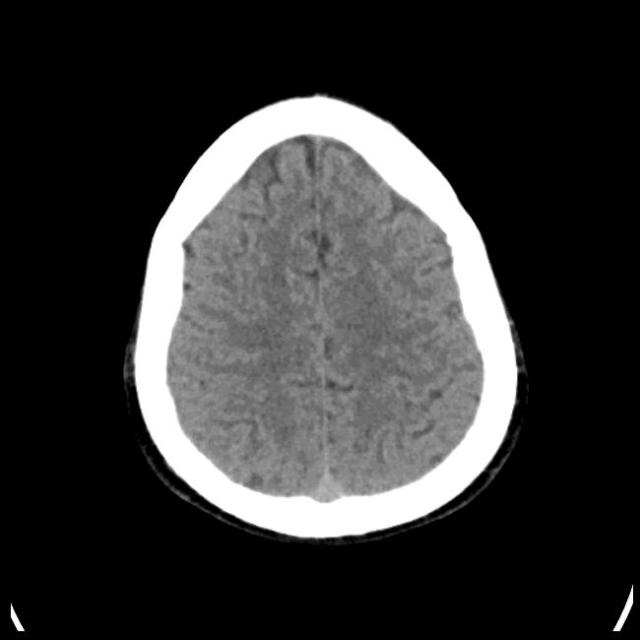lesion: (122, 90, 528, 544)
